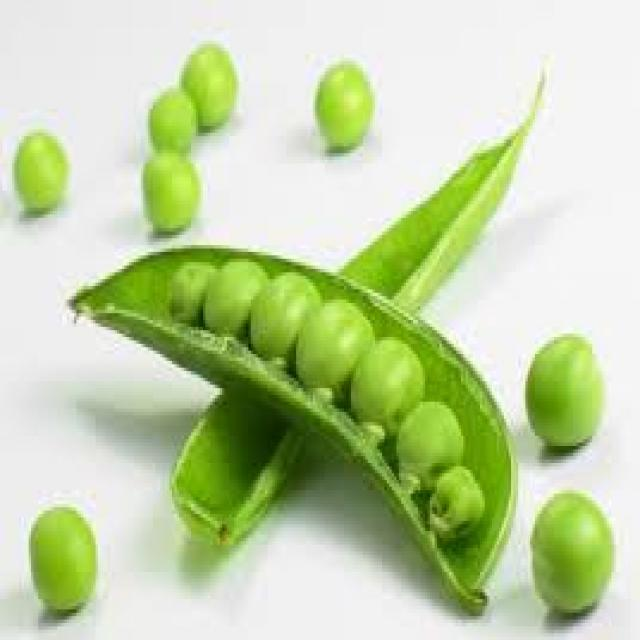organic waste: (170, 64, 544, 544), (79, 252, 513, 616), (532, 487, 612, 613), (525, 334, 597, 449), (294, 293, 370, 398), (348, 330, 422, 436), (29, 500, 93, 610), (248, 266, 318, 358), (394, 391, 461, 487), (200, 259, 268, 340), (313, 55, 370, 146), (179, 41, 234, 126), (141, 146, 196, 228), (427, 463, 480, 538), (12, 129, 62, 208), (165, 255, 210, 327), (148, 92, 196, 150)
